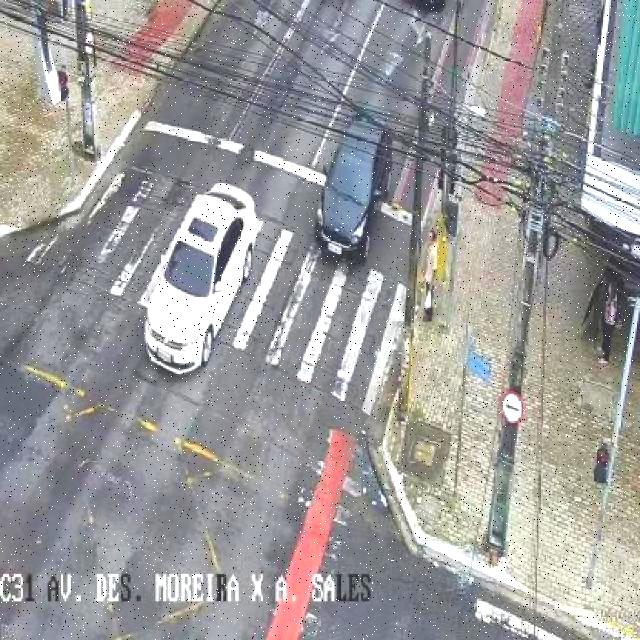Car: (140, 175, 262, 382), (314, 107, 395, 259)
